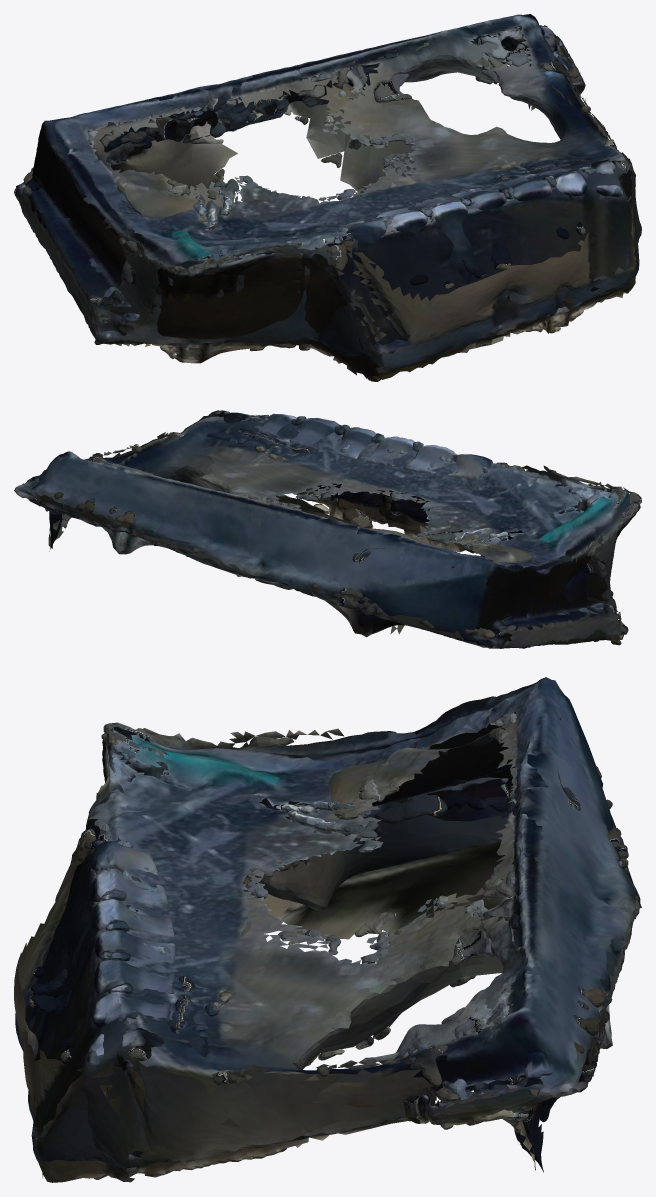
File: upper.glb
3 renders of one model, top to bottom at view 1: azimuth 30°, elevation 25°; view 2: azimuth 150°, elevation 25°; view 3: azimuth 270°, elevation 25°, orthographic. The views are drawn at different scales.
Size of the model in its own units: 382 by 112 by 256.
Materials: 2 (2 with a texture image).
